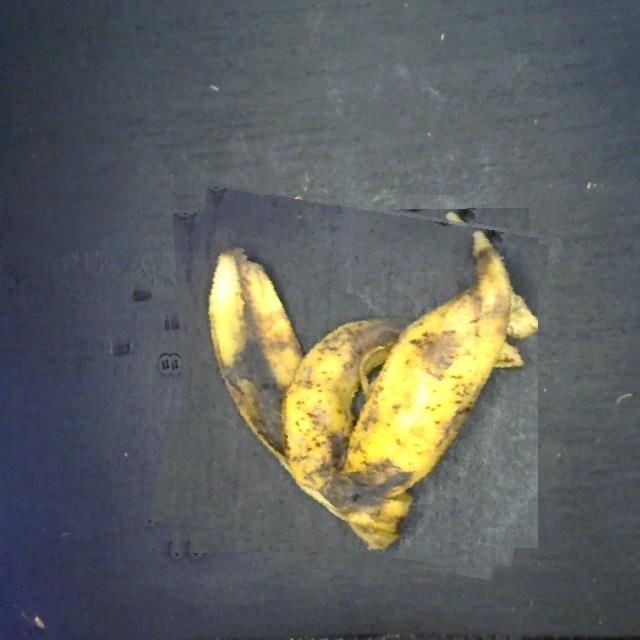biodegradable: (162, 195, 538, 572)
